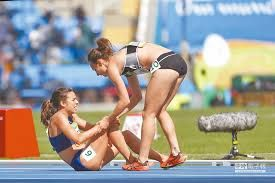fall: (38, 83, 178, 171)
